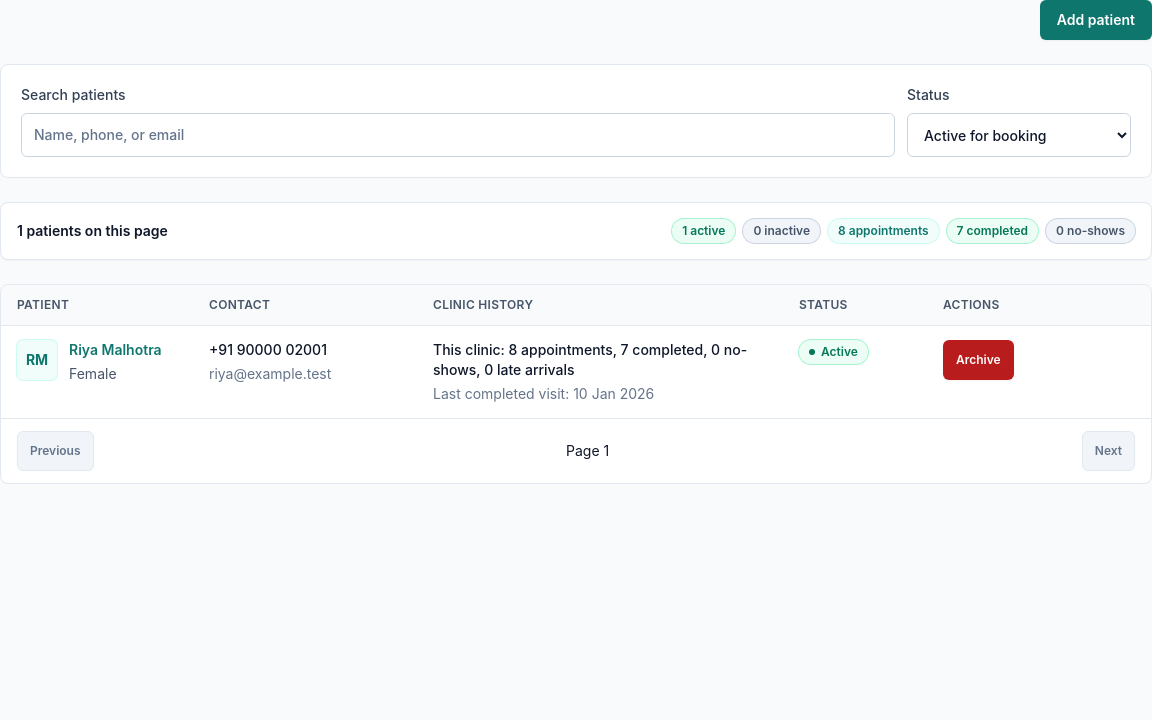
Scenario: PatientsPage edit workflow › validates patient edit fields before submitting
The image size is (1152, 720).
Step 1. Click the button with aria-label "view profile for riya malhotra" → x=115, y=350, box [69,340,162,360]
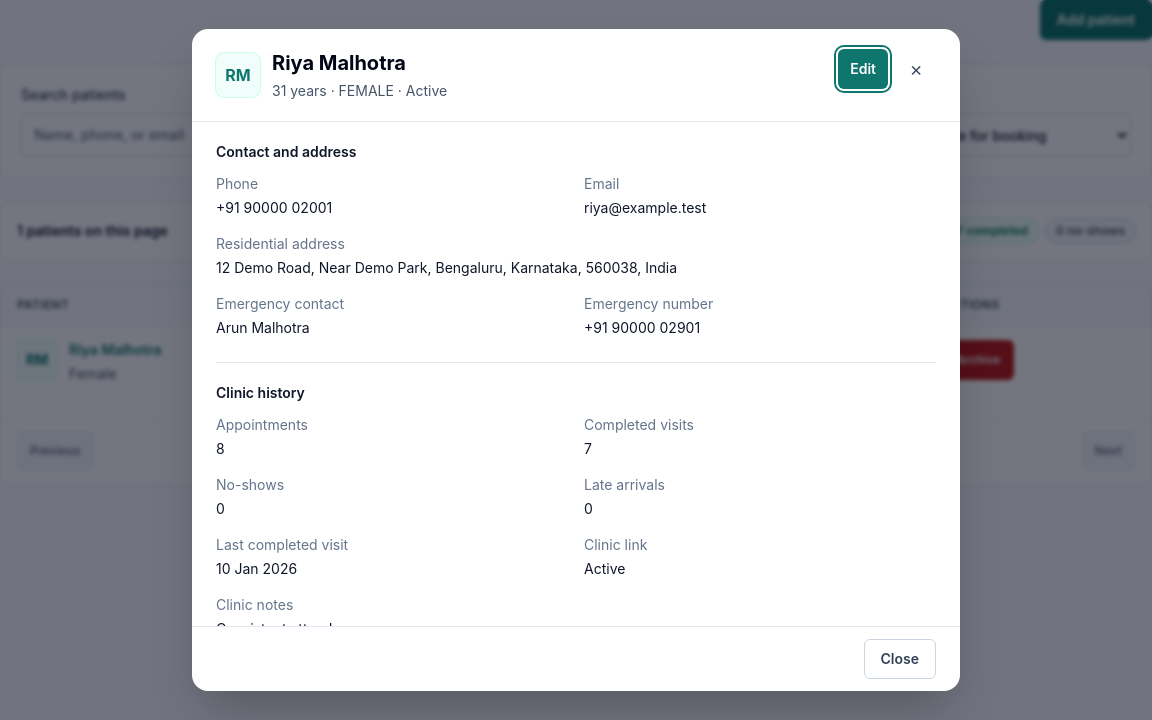
Step 2. Click the button "Edit" → x=863, y=69, box [838,49,888,89]
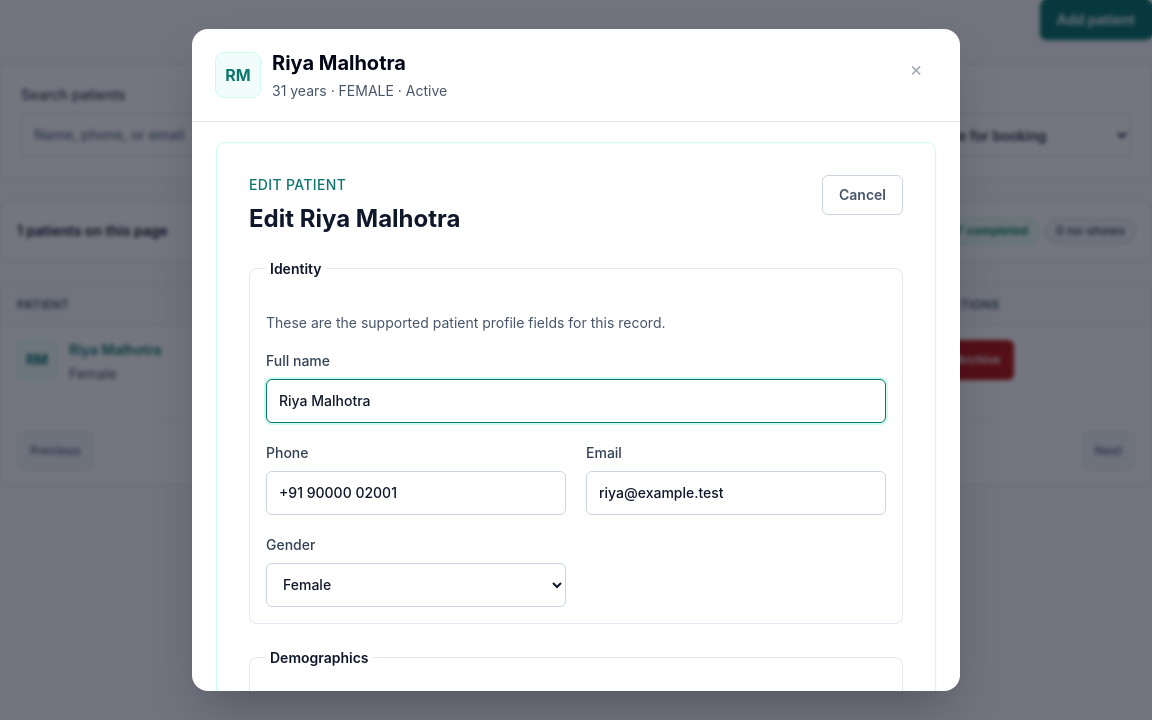
Step 3. Replace the text in the field labelled "Full name" with "R" → x=576, y=401, box [266,379,886,423]
Step 4. Replace the text in the field labelled "Phone" with "123" → x=416, y=493, box [266,471,566,515]
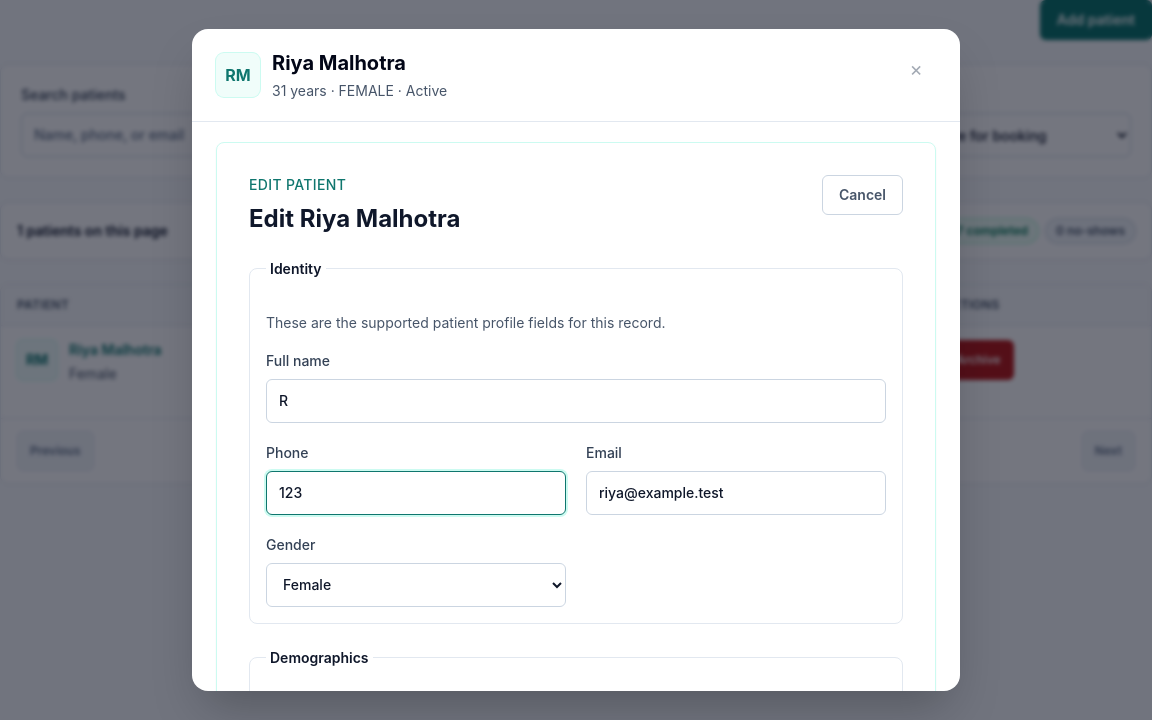
Step 5. Replace the text in the field labelled "Email" with "bad-email" → x=736, y=493, box [586,471,886,515]
(page scrolled)
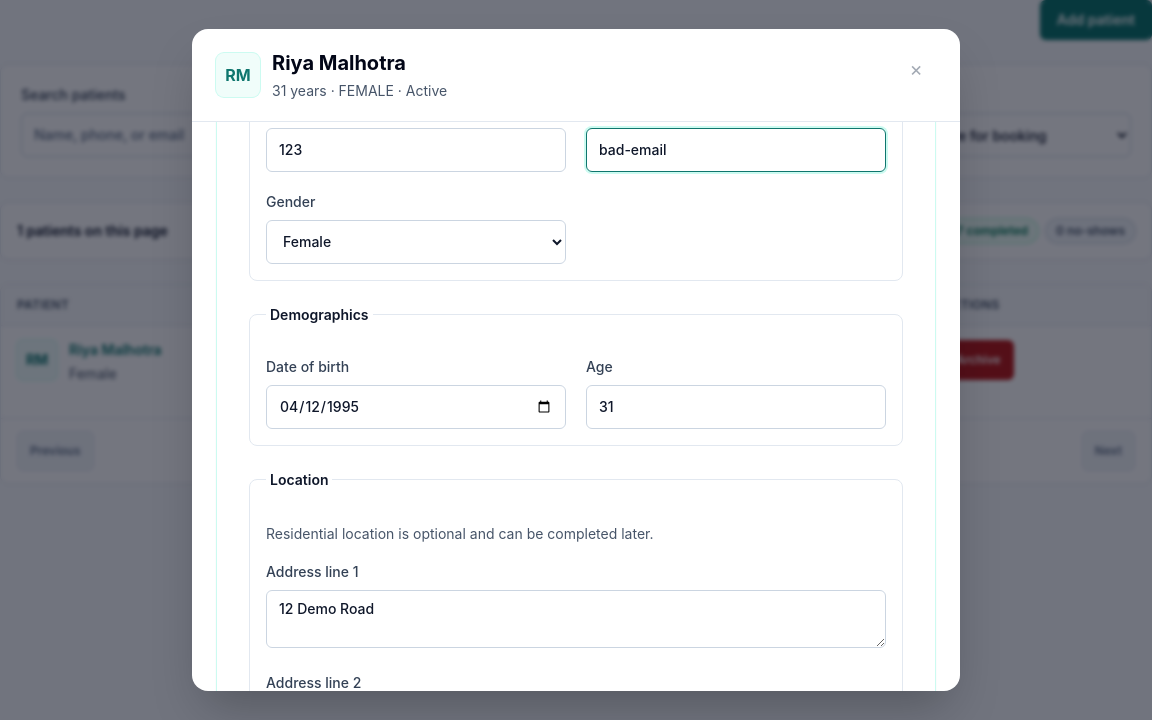
Step 6. Replace the text in the field labelled "Age" with "-3" → x=736, y=407, box [586,385,886,429]
(page scrolled)
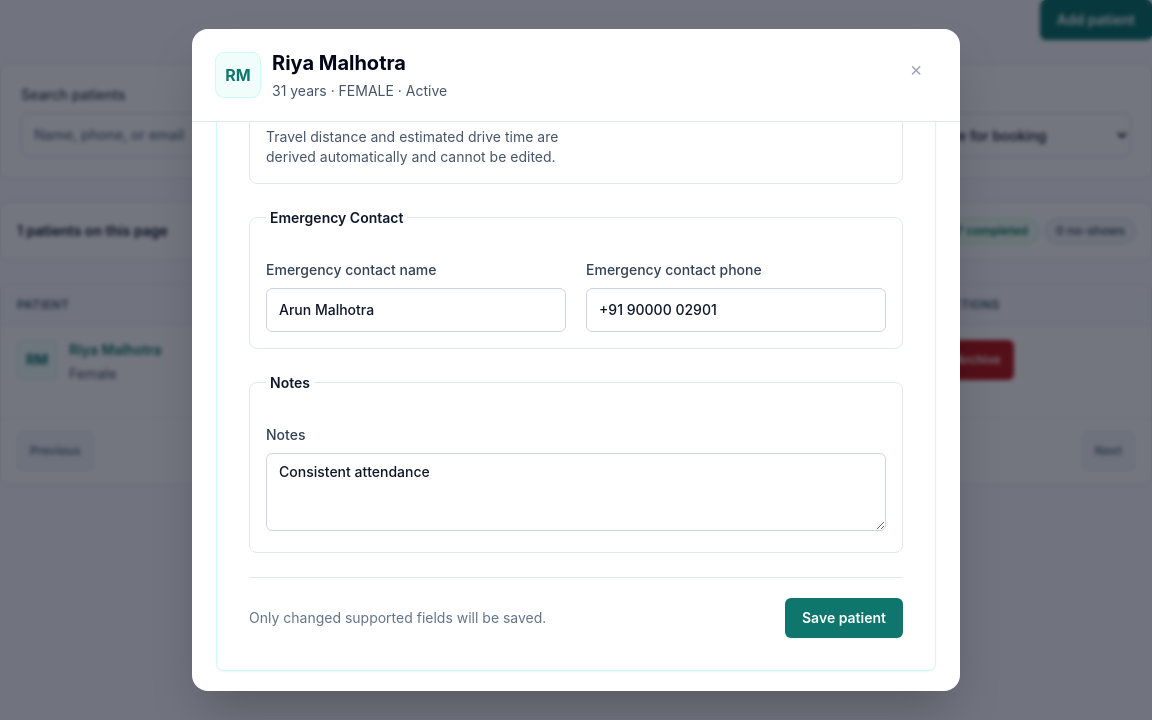
Step 7. Click the button "Save patient" → x=844, y=618, box [785,598,903,638]
(page scrolled)
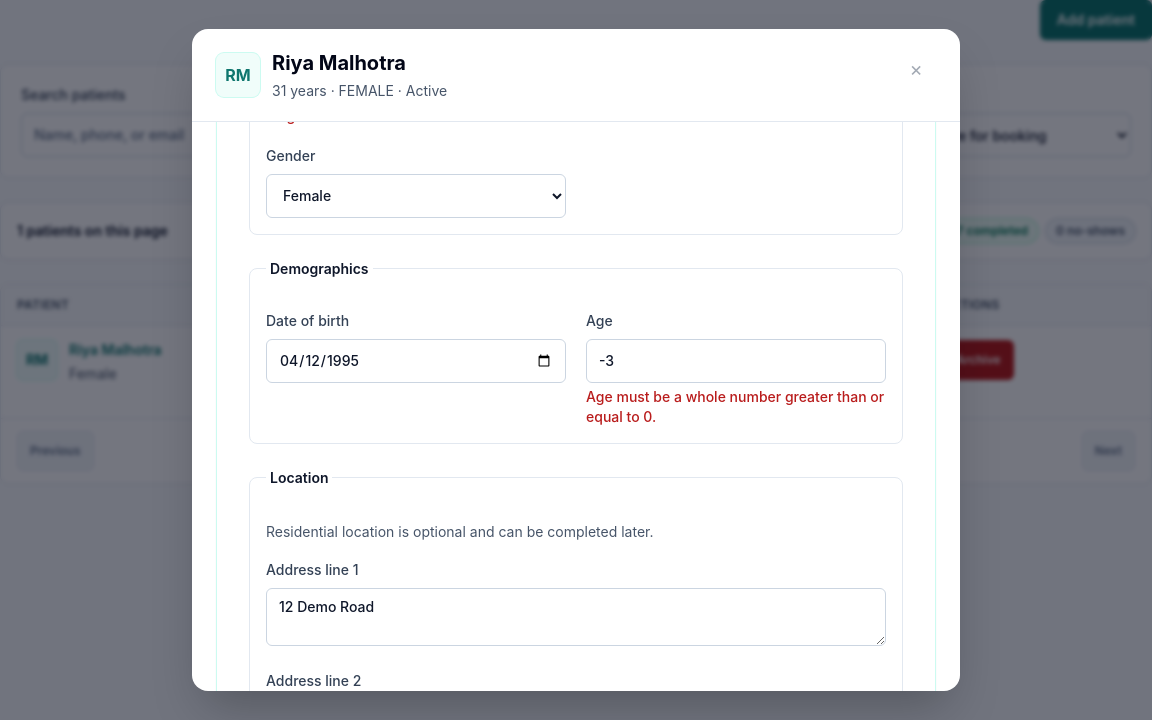
Check: the text "Age must be a whole number greater than or equal to 0." is shown, box [586,387,886,427]
